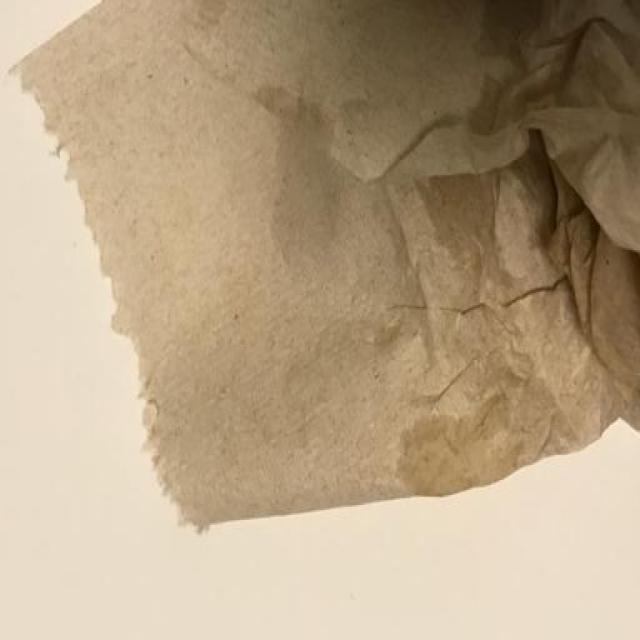Random Trash: (11, 0, 640, 533)
